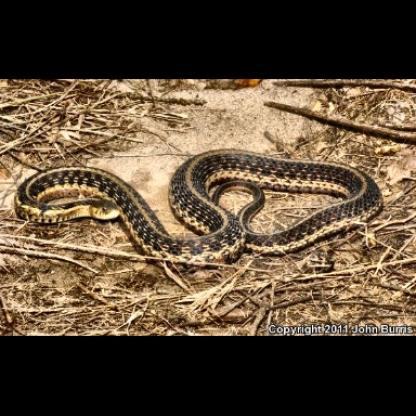Snake: (13, 148, 388, 264)
